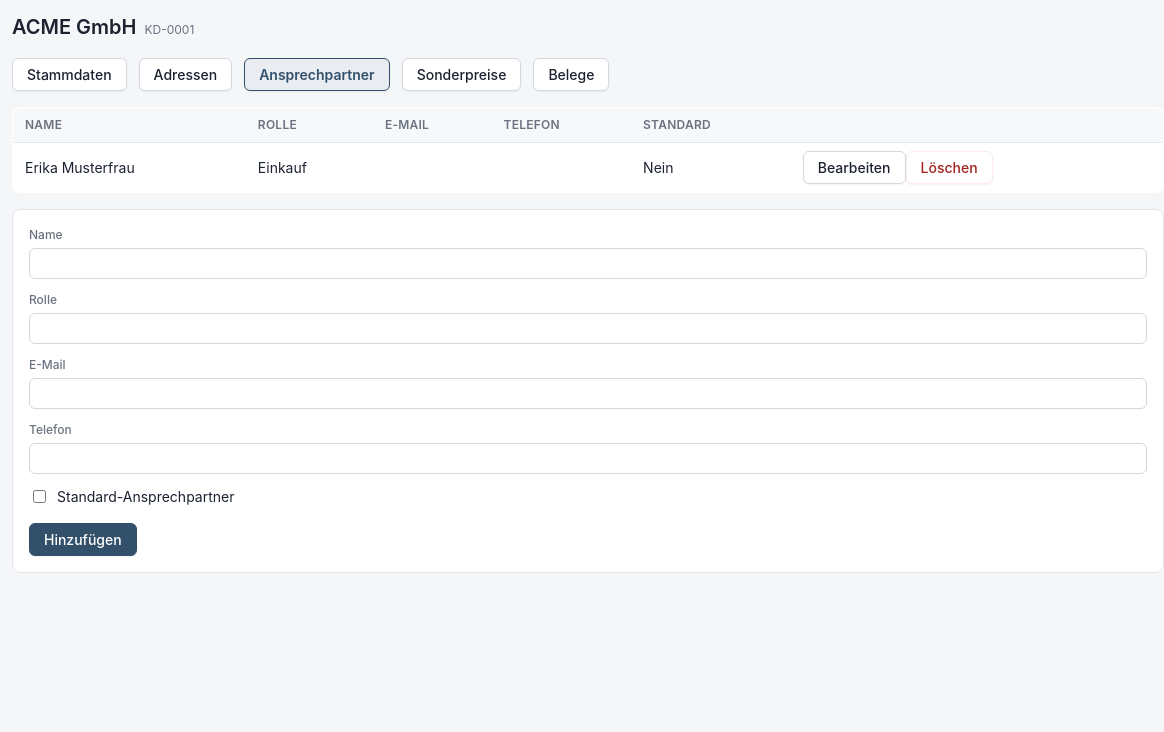
Test: KundeDetail › zeigt nach dem Anlegen eines neuen Ansprechpartners einen Erfolgs-Hinweis mit Namen
Expected: the button "Ansprechpartner" is shown, [244,58,390,91]
Type "Max Mustermann" into the field labelled "Name" at {"x": 588, "y": 264}, box [29,248,1147,279]
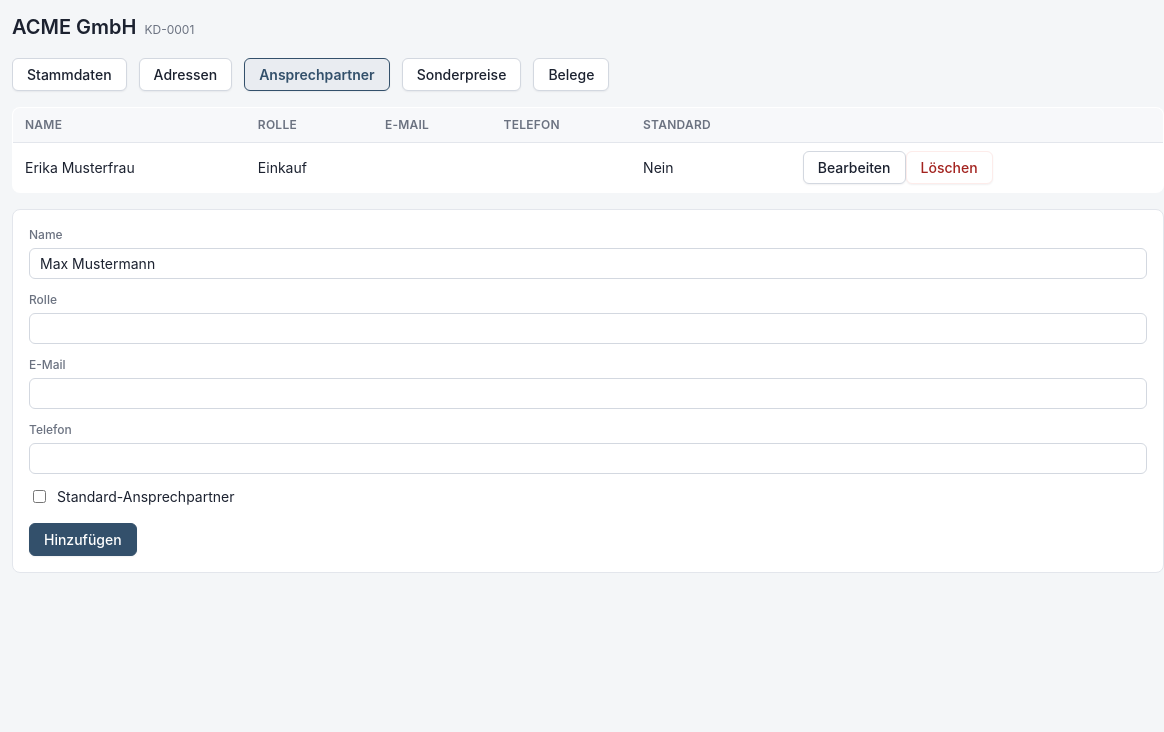
Click the button "Hinzufügen" at {"x": 83, "y": 540}, box [29,523,137,556]
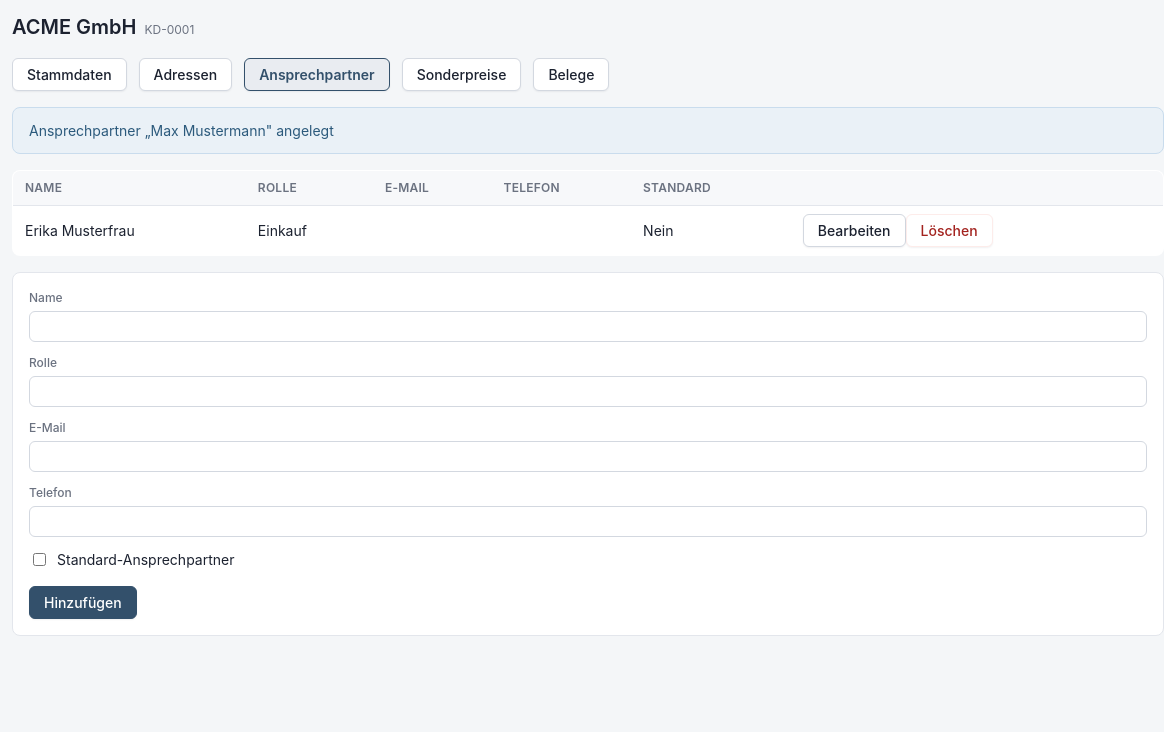
Expected: the text "Ansprechpartner „Max Mustermann\" angelegt" is shown, [29,120,334,141]
